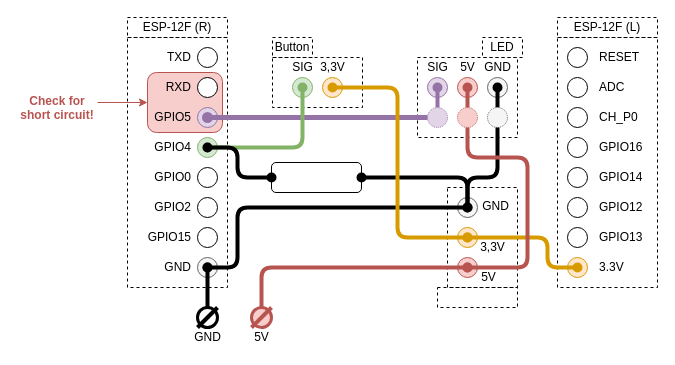
Some shapes in this 675 by 365 pixel diagram are drawn without their labels. Each missing label, with the centre of its shape:
"10 kΩ" goes at point (316, 177).
"vol. converter" goes at point (477, 297).
